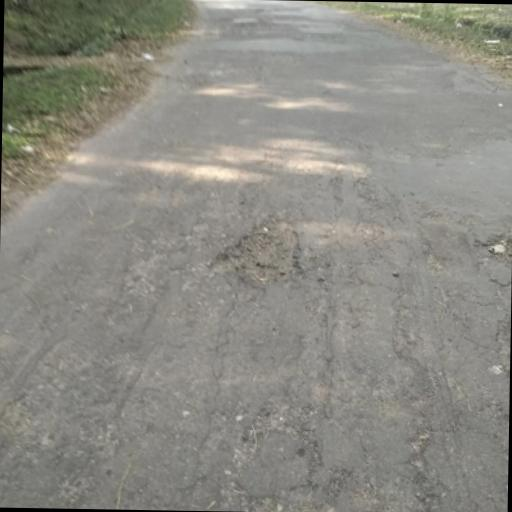pothole: (203, 209, 309, 293), (469, 230, 511, 266)
